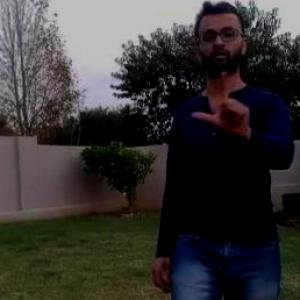land_hand: (186, 61, 259, 148)
